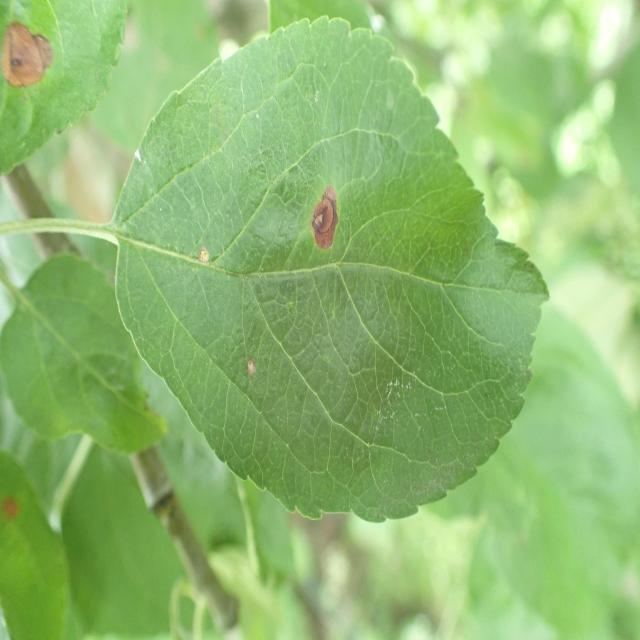Black Rot: (296, 168, 349, 278), (238, 351, 269, 393), (194, 235, 216, 287)
